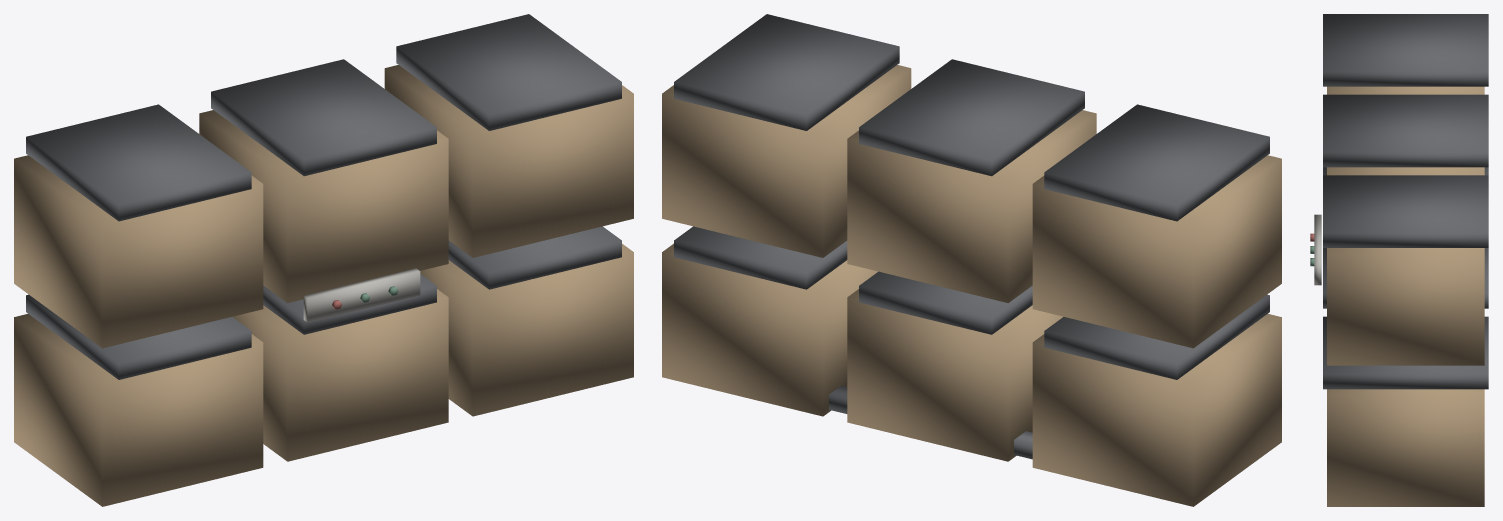
Rendered from produce_stand__reinforced.glb.
3 views of the same model, side by side, from view 1: azimuth 30°, elevation 25°; view 2: azimuth 150°, elevation 25°; view 3: azimuth 270°, elevation 25° (orthographic). The views are drawn at different scales.
Parts seen in each view (by area): view 1: world; view 2: world; view 3: world.
Boxes of the visible parts, <box> form: world: <box>14,14,633,506</box>; world: <box>662,14,1281,506</box>; world: <box>1310,14,1488,506</box>.
Size of the model in its own units: 1.36 by 0.7344 by 0.4439.
